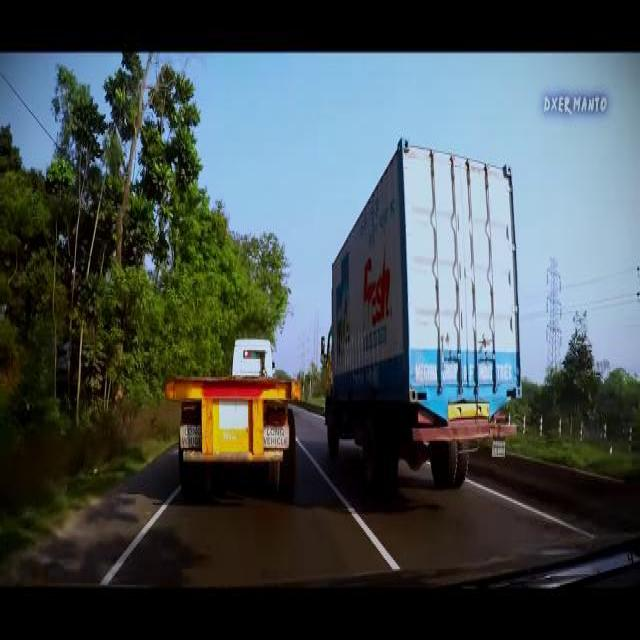vehicle: (320, 132, 526, 489), (163, 336, 306, 505)
